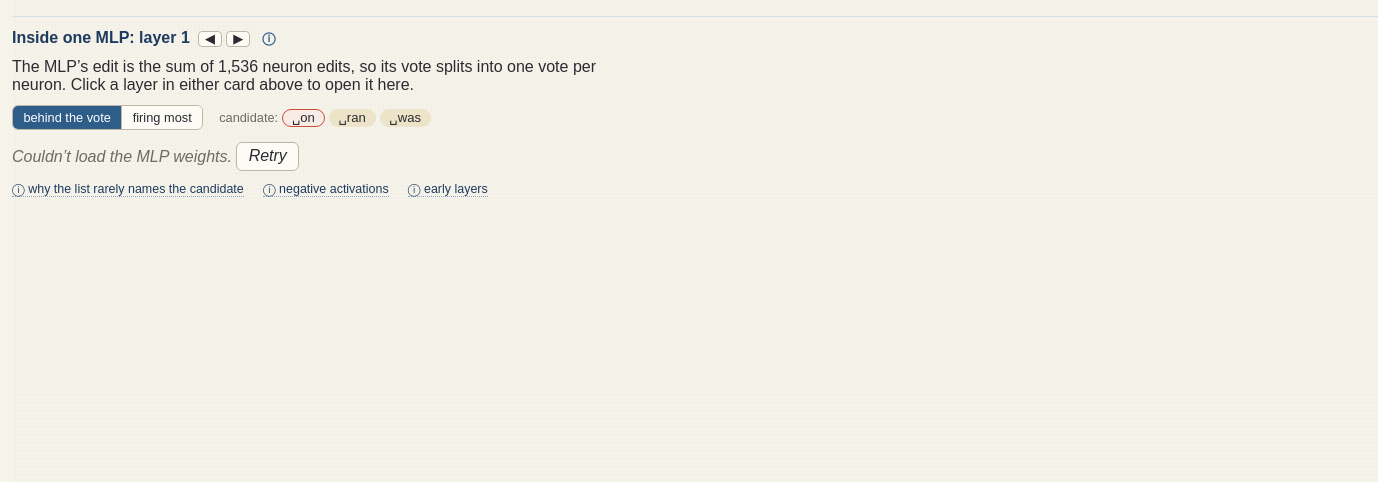
Test: a load error offers retry
Expected: the element with test id "neuron-error" shows "Couldn’t load the MLP weights.", 12,147 -> 232,164
Click the button with test id "neuron-retry" at (268, 156), box 236,142 -> 299,171
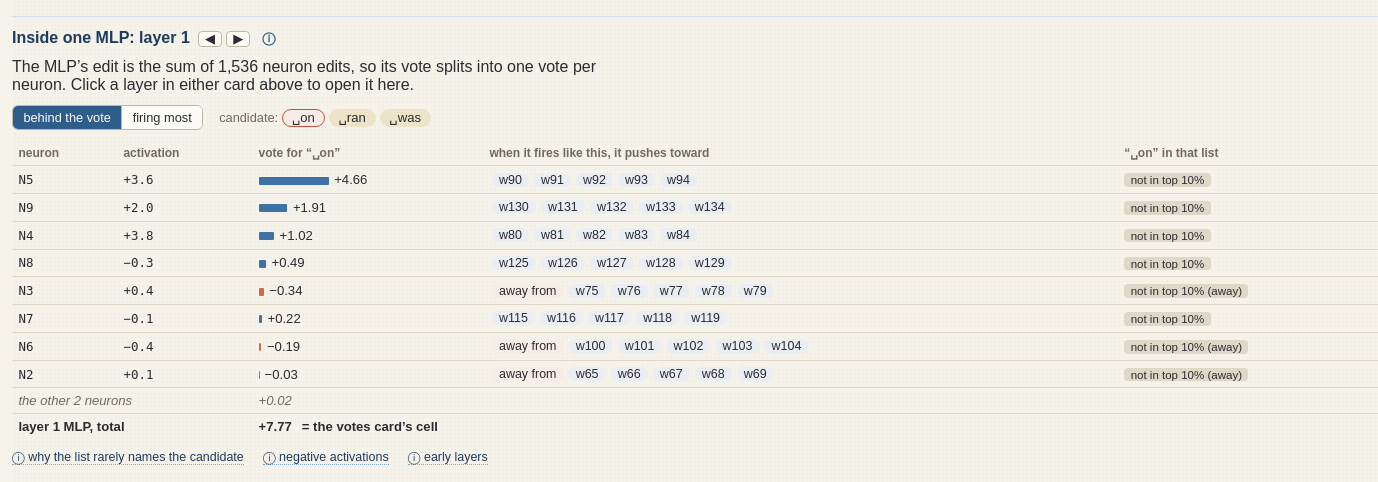
Result: the number of rows with test id "neuron-row" is 8
